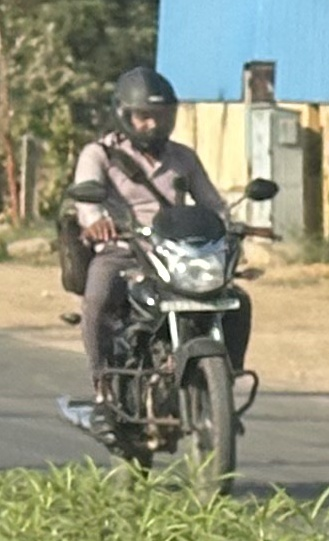BikeWithRider: (43, 59, 289, 508)
Helmet: (103, 60, 188, 153)
